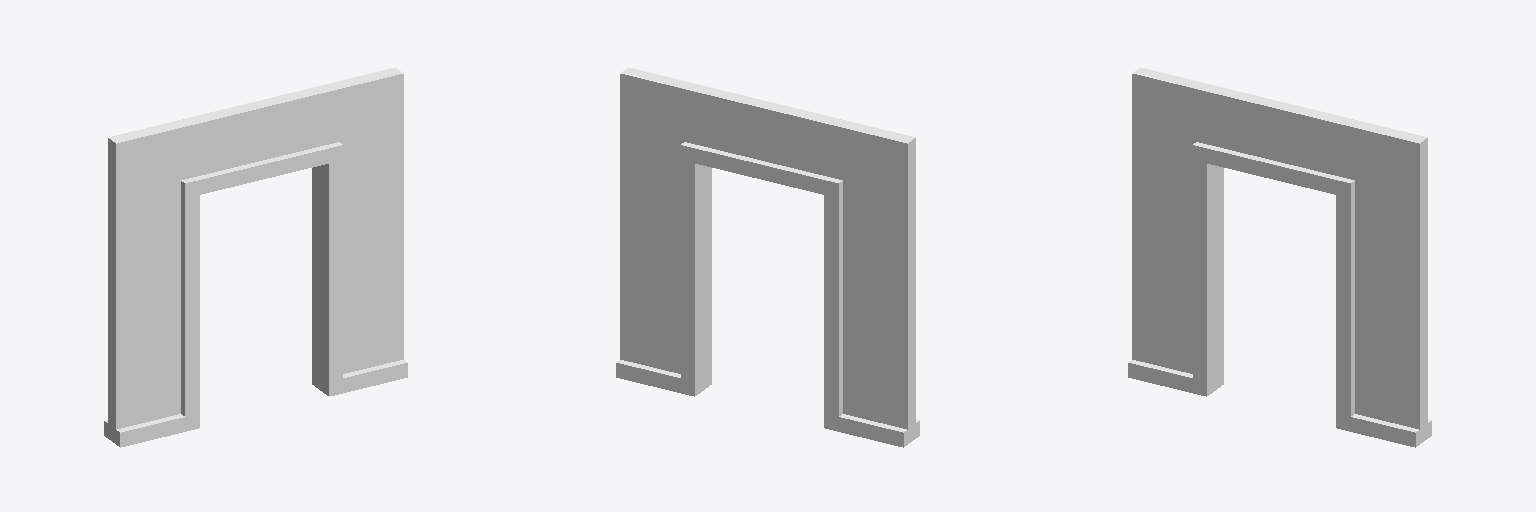
The model's file is Door01.obj.
The picture shows the model from 3 angles: view 1: azimuth 30°, elevation 25°; view 2: azimuth 150°, elevation 25°; view 3: azimuth 330°, elevation 25°; orthographic projection.
Visible parts, largest first — view 1: object 1; view 2: object 1; view 3: object 1.
Boxes of the visible parts, box(x1,y1,x2,y2) form: object 1: box(104, 67, 407, 447); object 1: box(616, 67, 919, 447); object 1: box(1128, 67, 1431, 447).
Bounding box in the file's own units: 4 × 4 × 0.4.